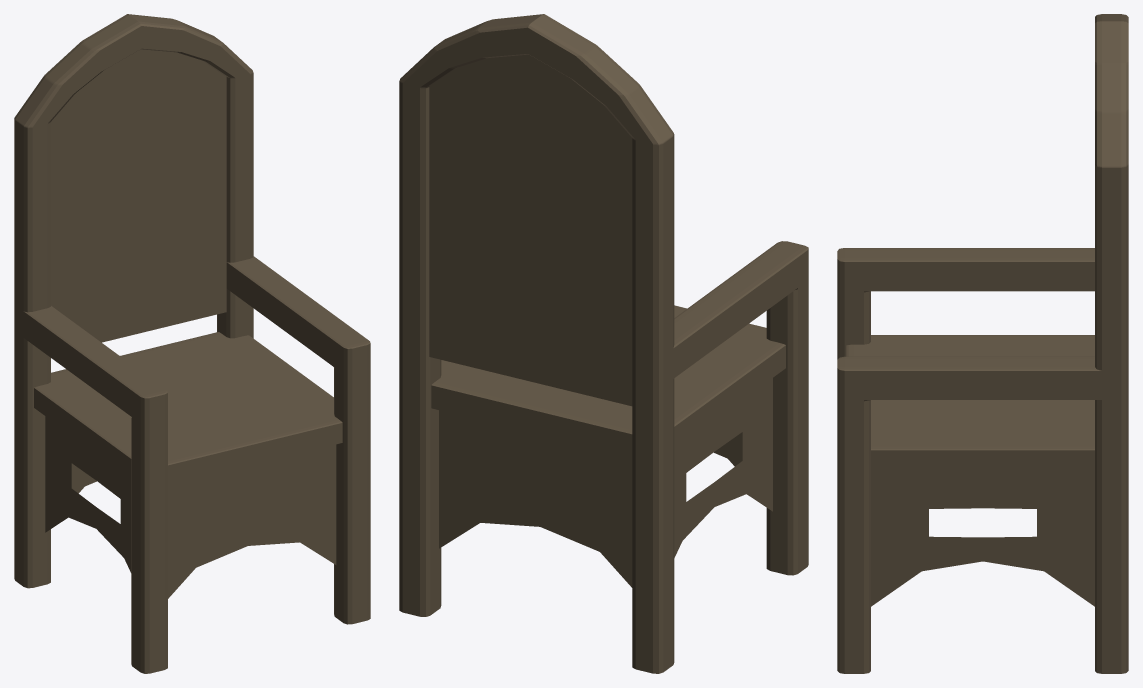
Rendered from chair (1).fbx.
The picture shows the model from 3 angles, left to right: view 1: azimuth 30°, elevation 25°; view 2: azimuth 150°, elevation 25°; view 3: azimuth 270°, elevation 25°; orthographic projection. The views are drawn at different scales.
Visible parts, largest first — view 1: chair; view 2: chair; view 3: chair.
Boxes of the visible parts, <box> form: chair: <box>14,14,370,673</box>; chair: <box>399,14,808,673</box>; chair: <box>837,14,1128,673</box>.
Bounding box in the file's own units: 130 × 292 × 130.
